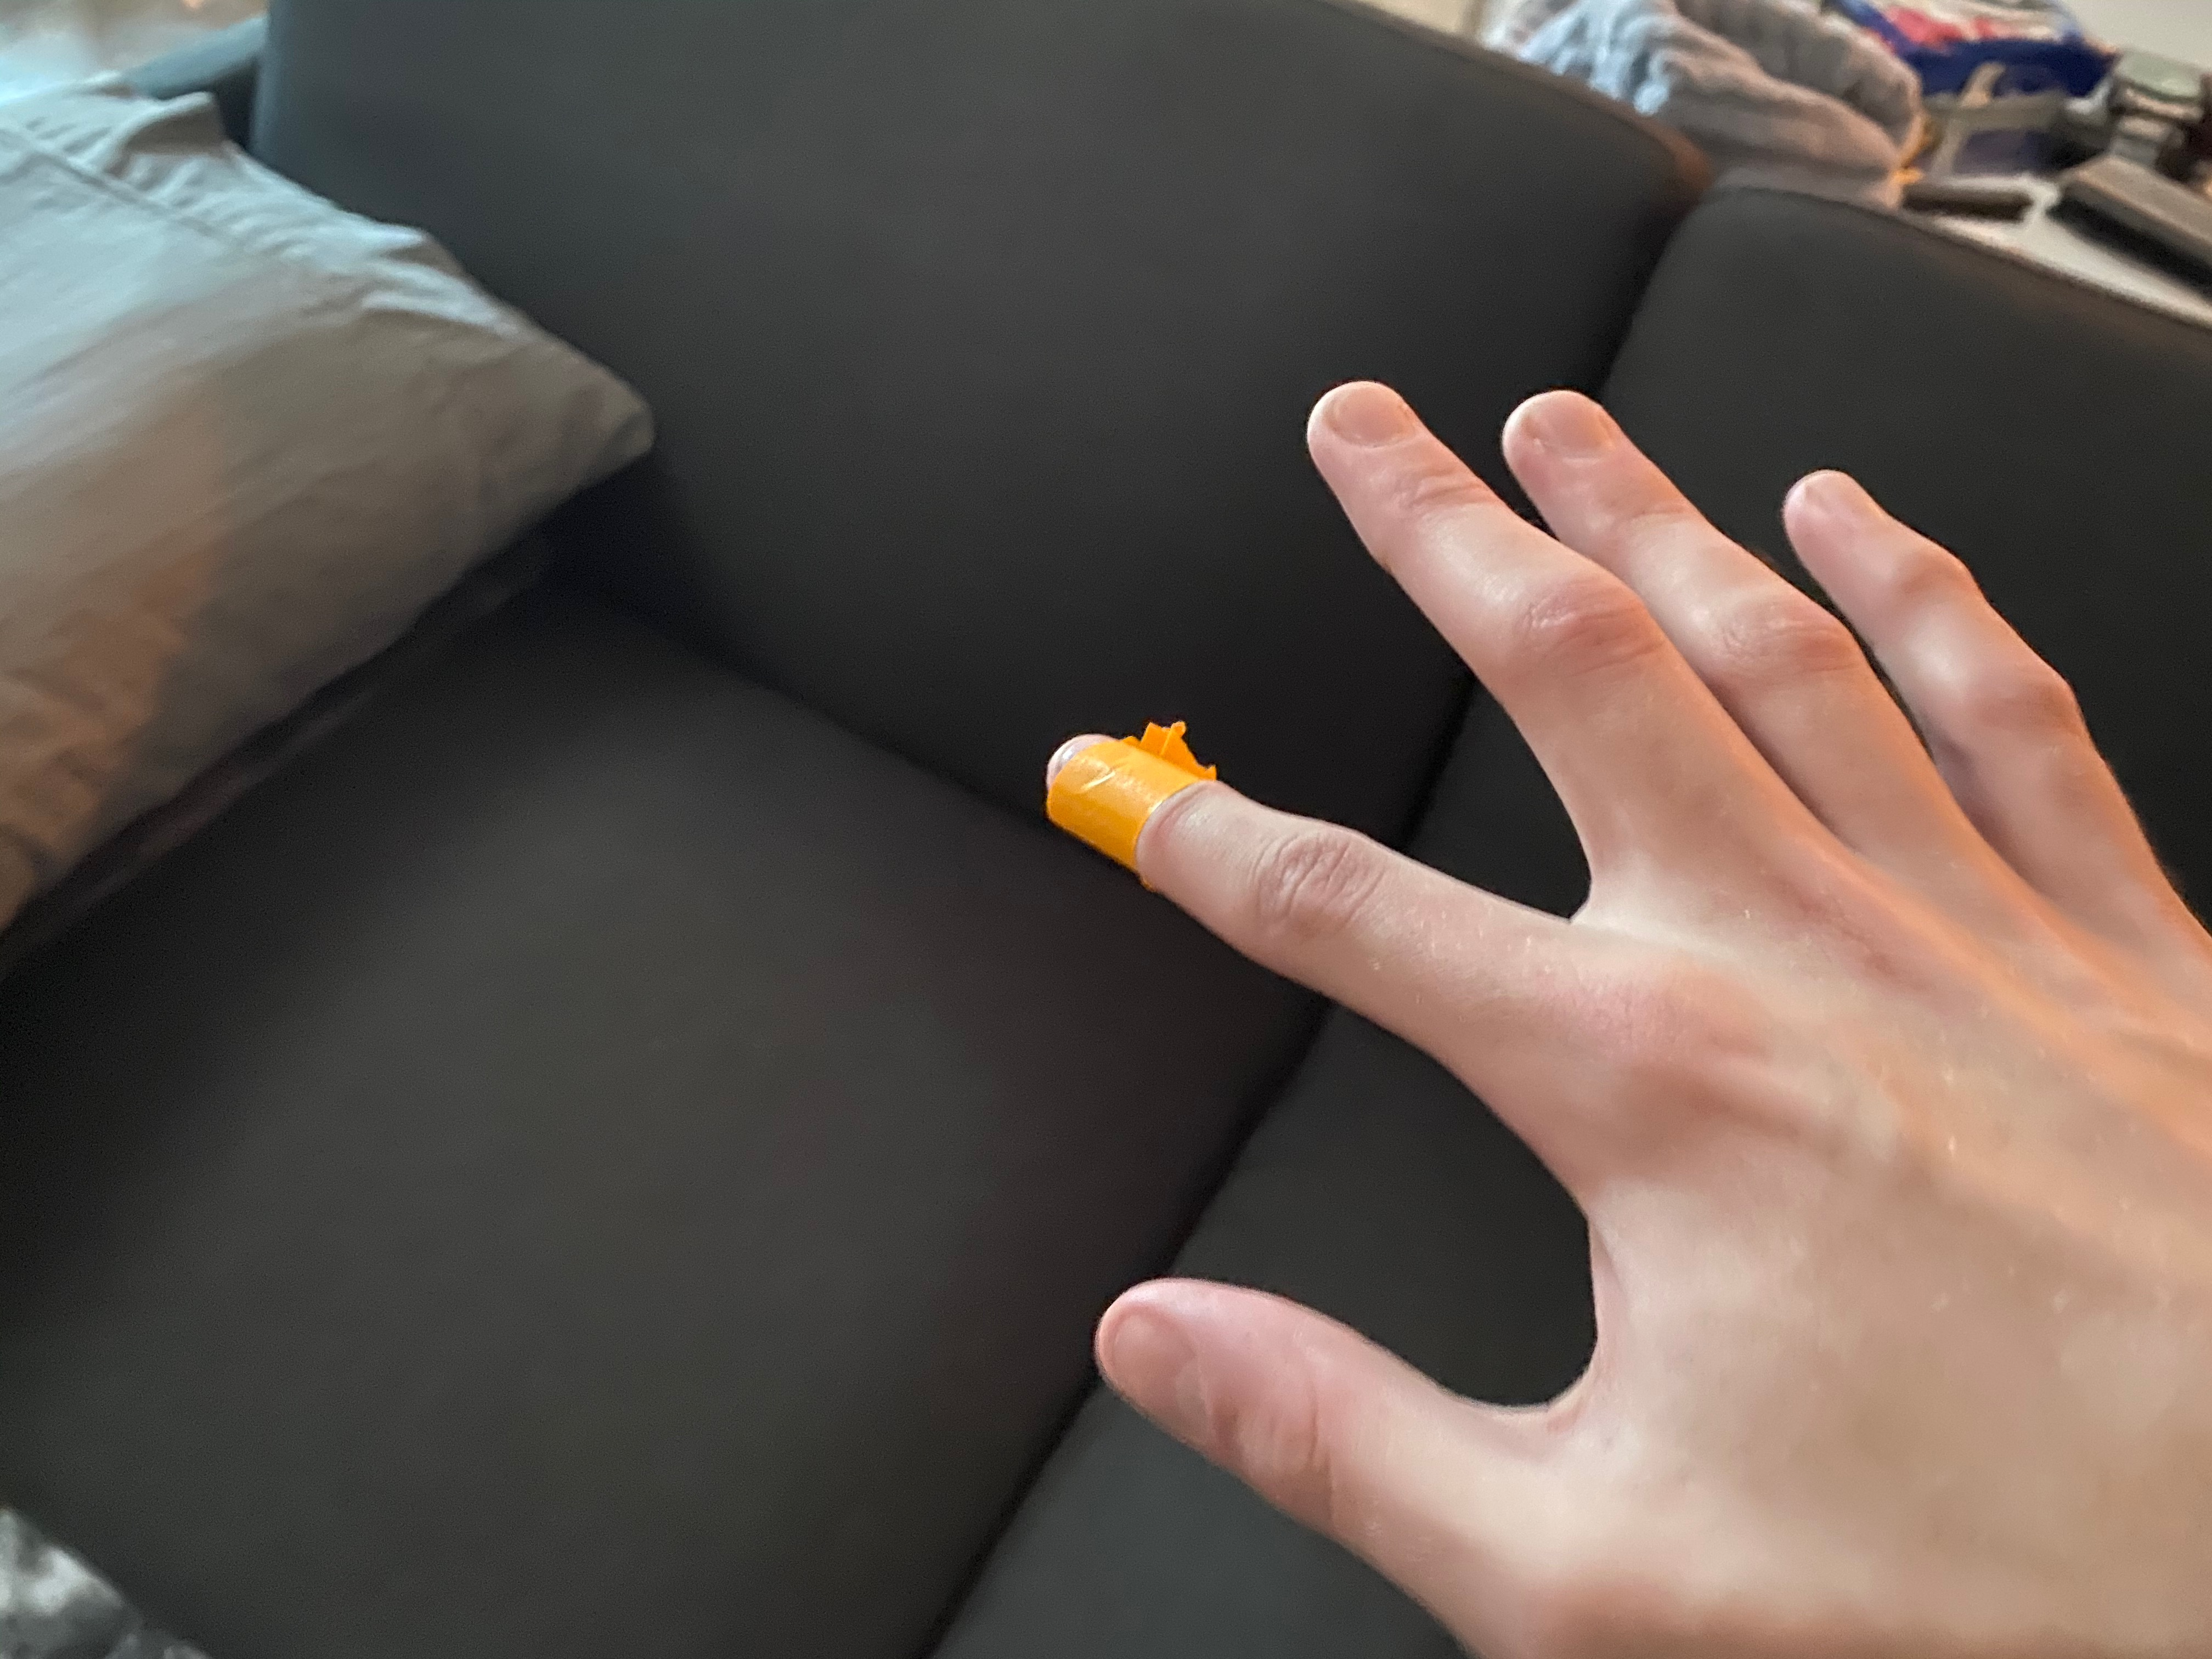fingertip: (1019, 711, 1249, 889)
